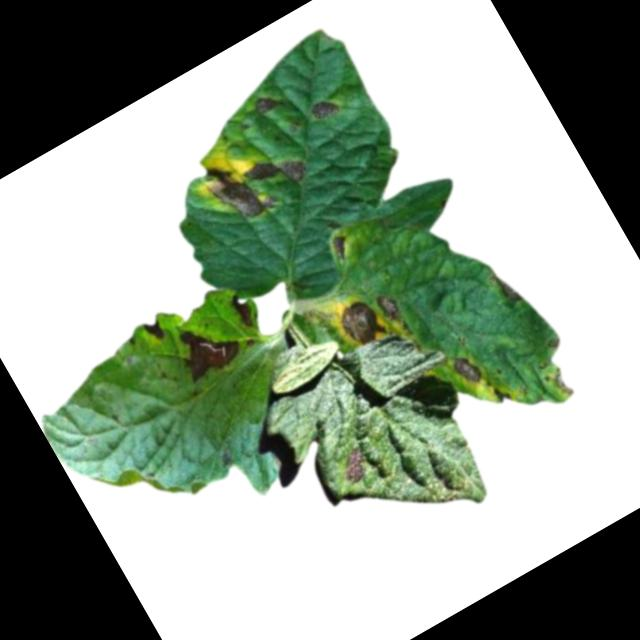Early_blight: (195, 145, 279, 234), (166, 307, 248, 388), (241, 139, 313, 202), (332, 292, 388, 351), (332, 440, 378, 488), (447, 347, 487, 391), (488, 265, 526, 311), (225, 285, 261, 331), (372, 285, 406, 321), (308, 92, 344, 126), (545, 363, 576, 401), (324, 231, 356, 265), (251, 86, 284, 117), (141, 313, 171, 346), (490, 380, 515, 406)
